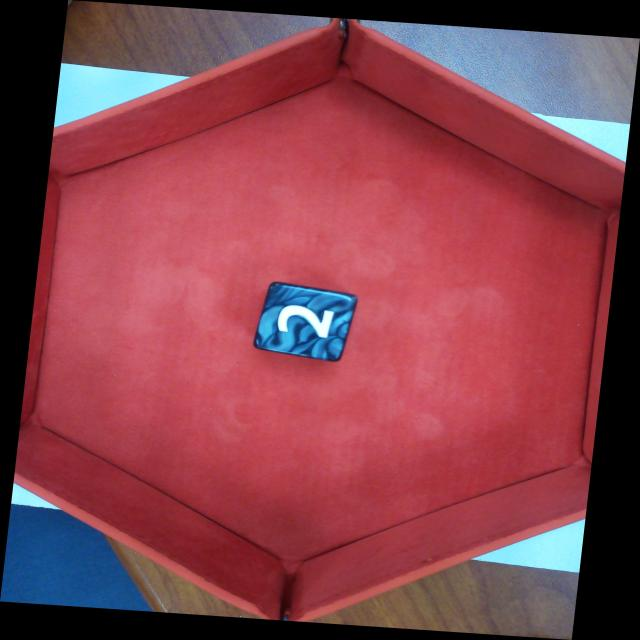dice: (251, 278, 359, 365)
